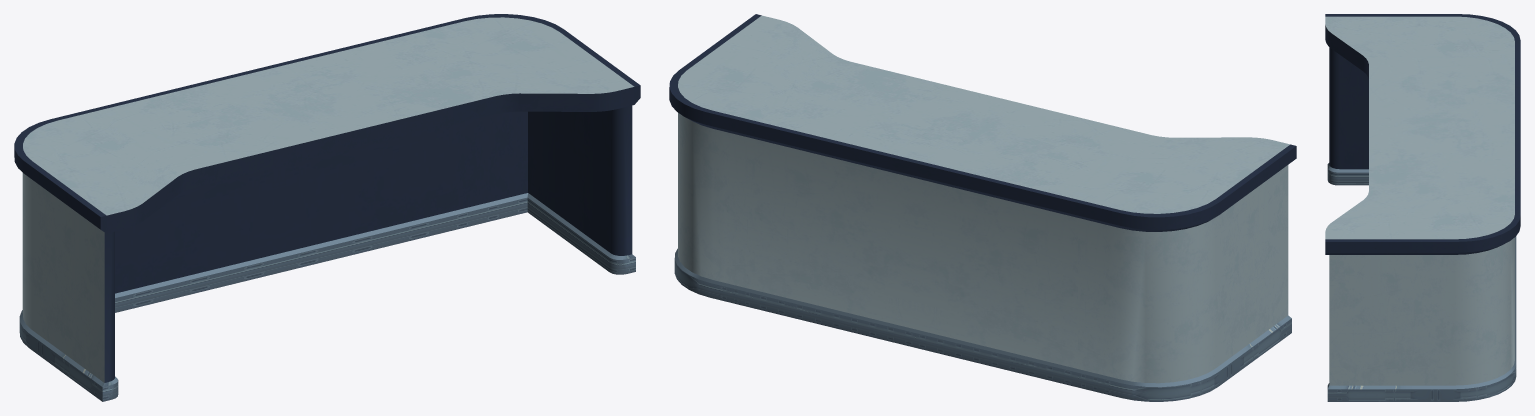
Rendered from Prop_Desk_Medium.gltf.
3 views of the same model, side by side, from view 1: azimuth 30°, elevation 25°; view 2: azimuth 150°, elevation 25°; view 3: azimuth 270°, elevation 25° (orthographic). The views are drawn at different scales.
Visible parts, largest first — view 1: Prop_Desk_Medium; view 2: Prop_Desk_Medium; view 3: Prop_Desk_Medium.
Boxes of the visible parts, left/top/right/bottom form: Prop_Desk_Medium: left=14, top=14, right=640, bottom=401; Prop_Desk_Medium: left=669, top=14, right=1296, bottom=401; Prop_Desk_Medium: left=1325, top=14, right=1520, bottom=401.
Size of the model in its own units: 2.84 by 0.9396 by 1.03.
Materials: 3 (3 with a texture image).
